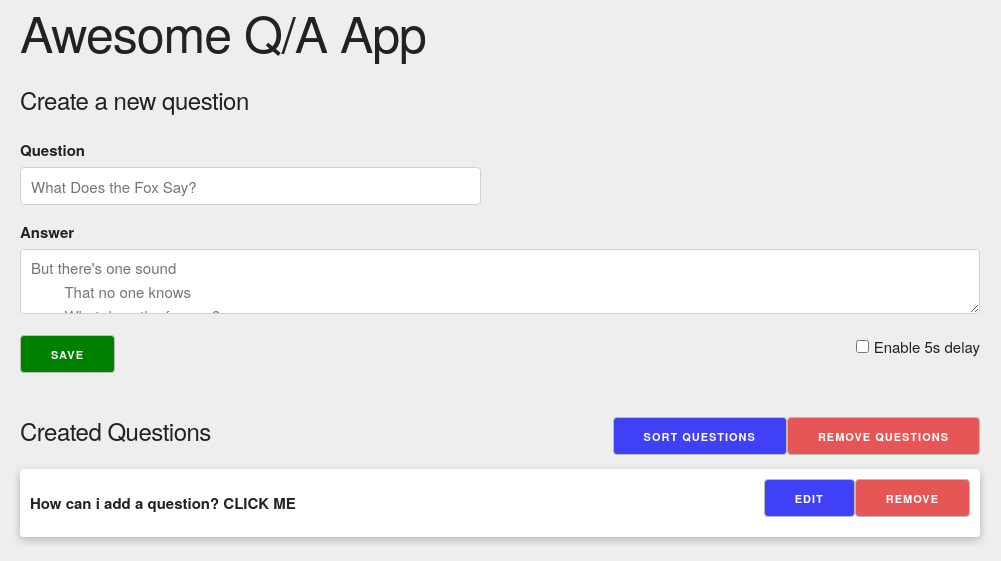
Test: Question › Check default question
Click the text "How can i add a question? CLICK ME". click: (163, 503)
box: [30,492,296,514]
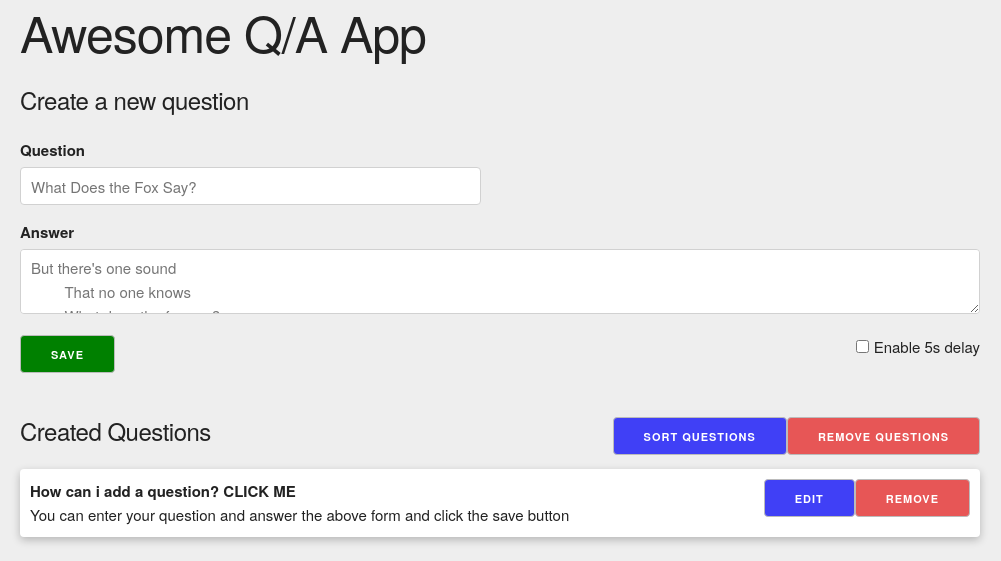
Check: the text "You can enter your question and answer the above form and click the save button" is shown, box [30,503,569,527]
